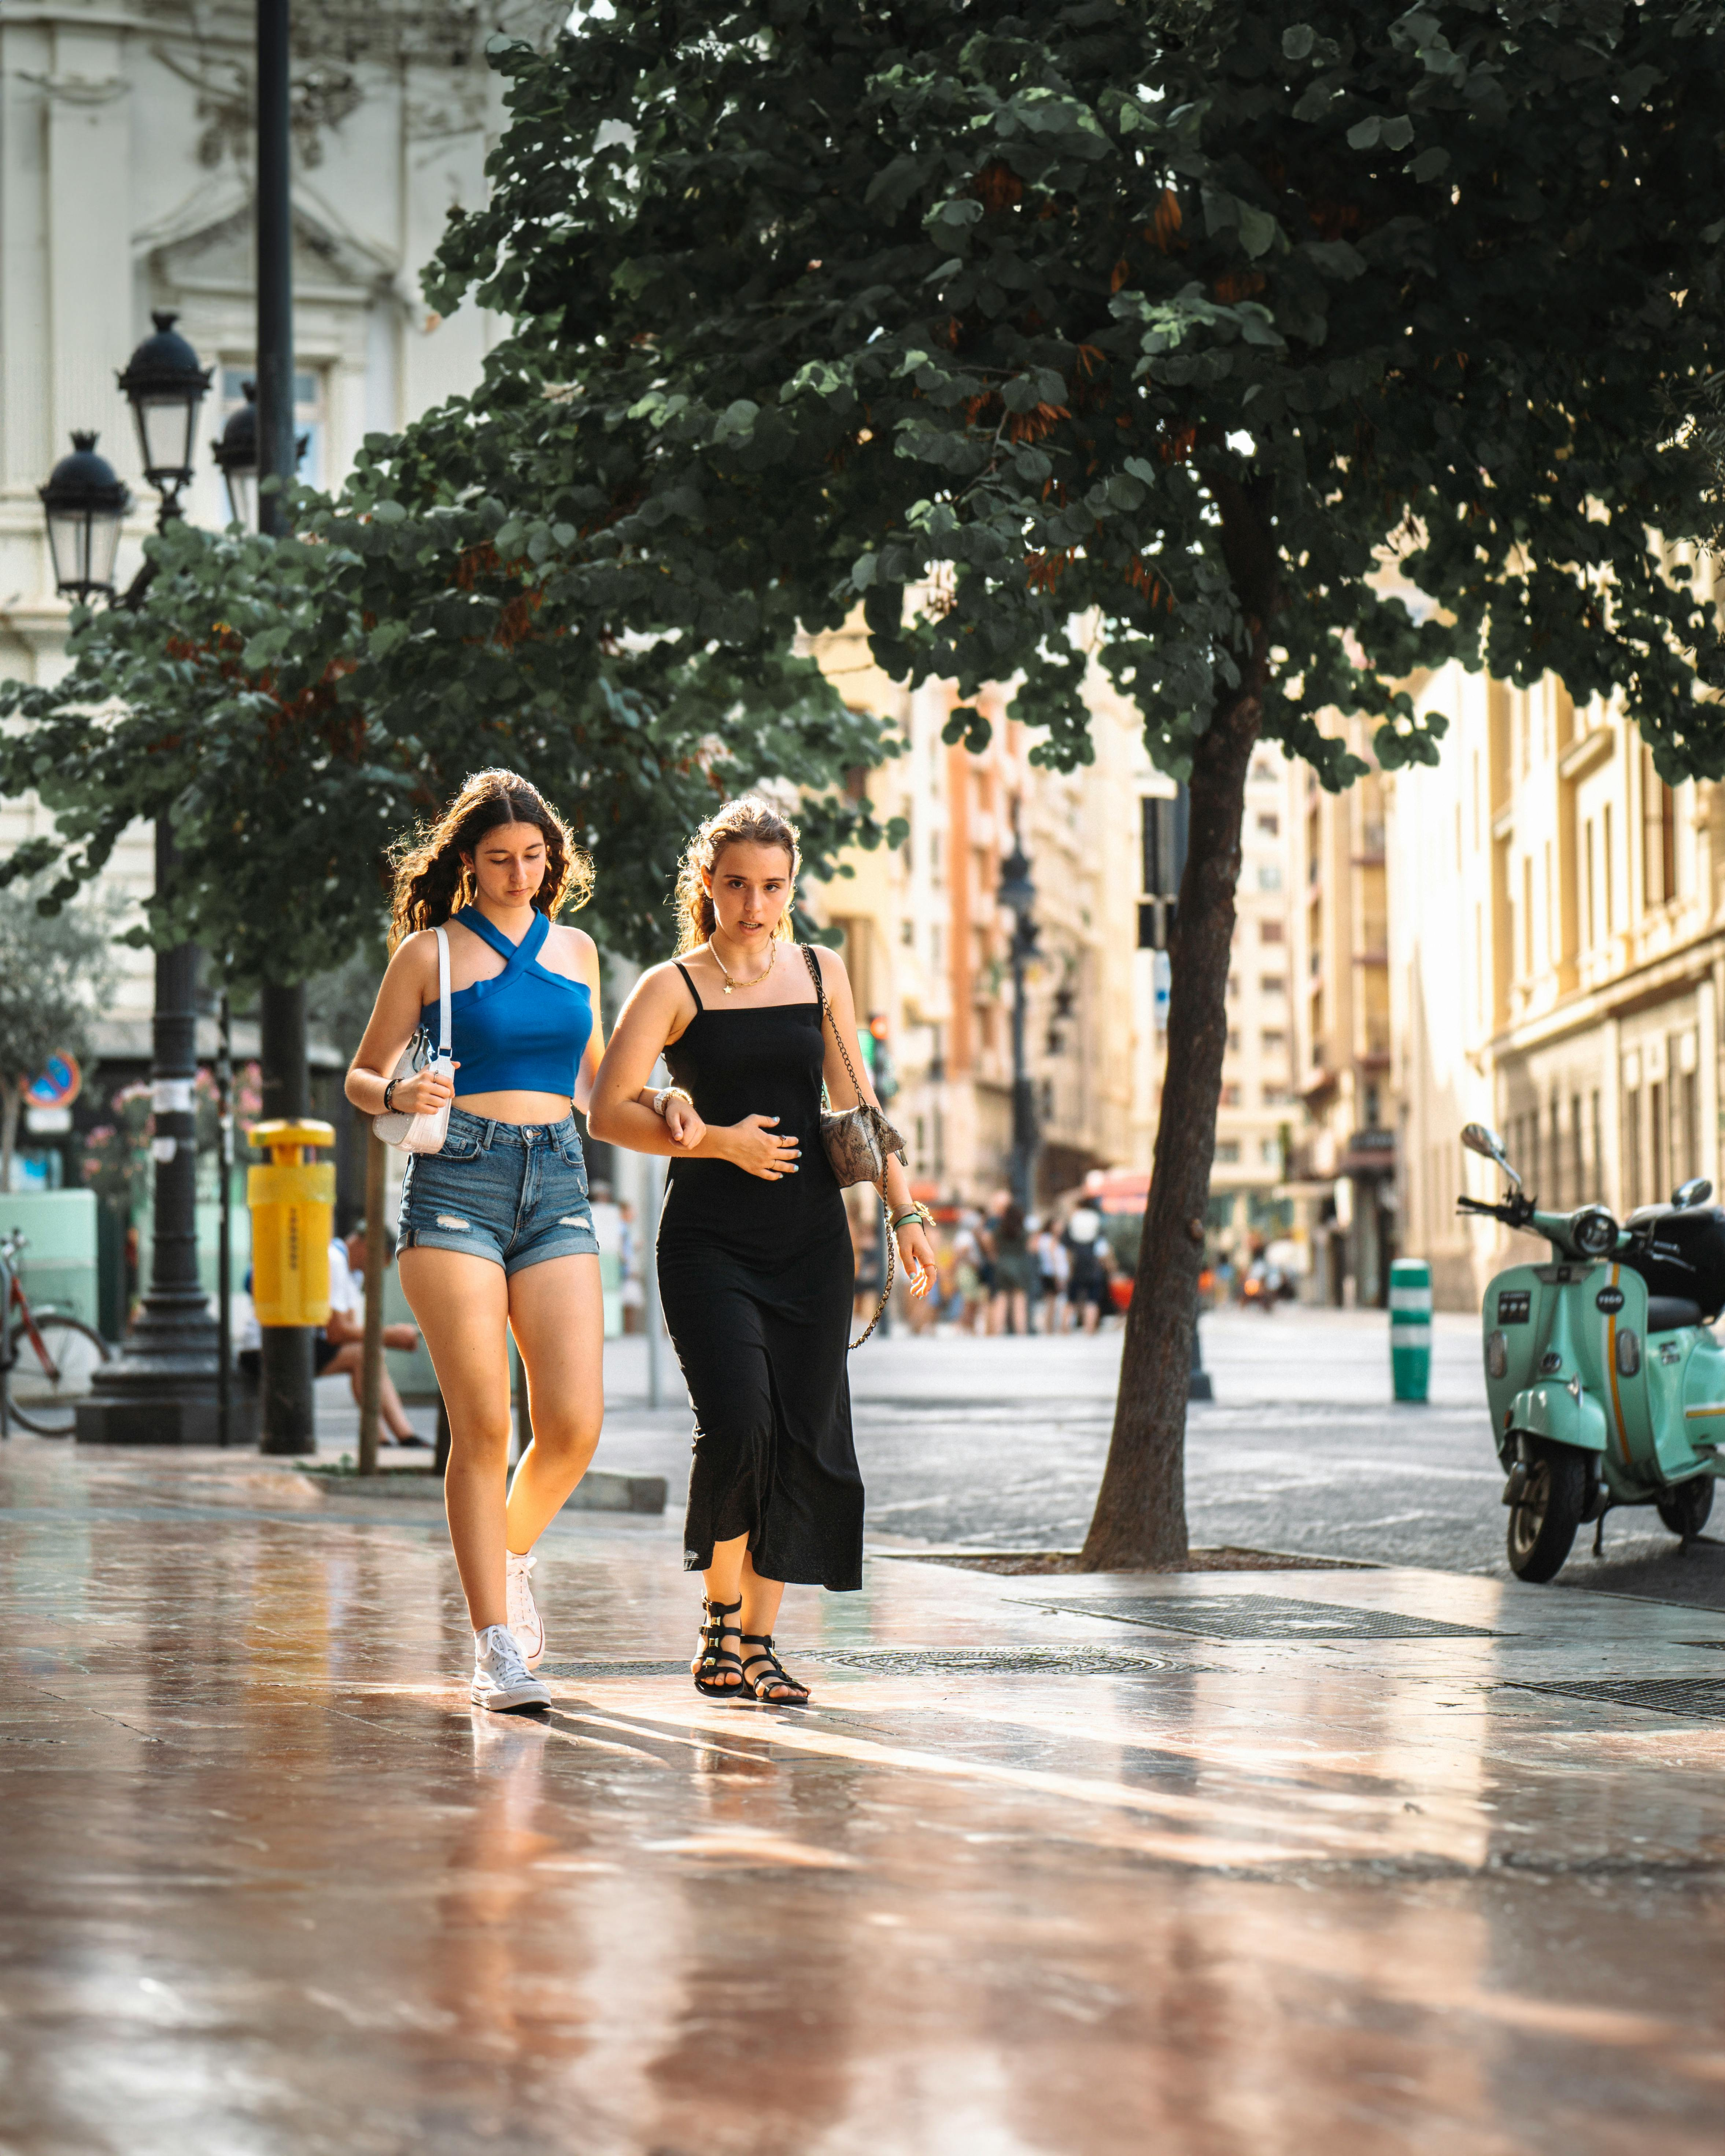motor bike: (1394, 1117, 1725, 1575)
person: (600, 788, 911, 1701), (350, 751, 630, 1734)
